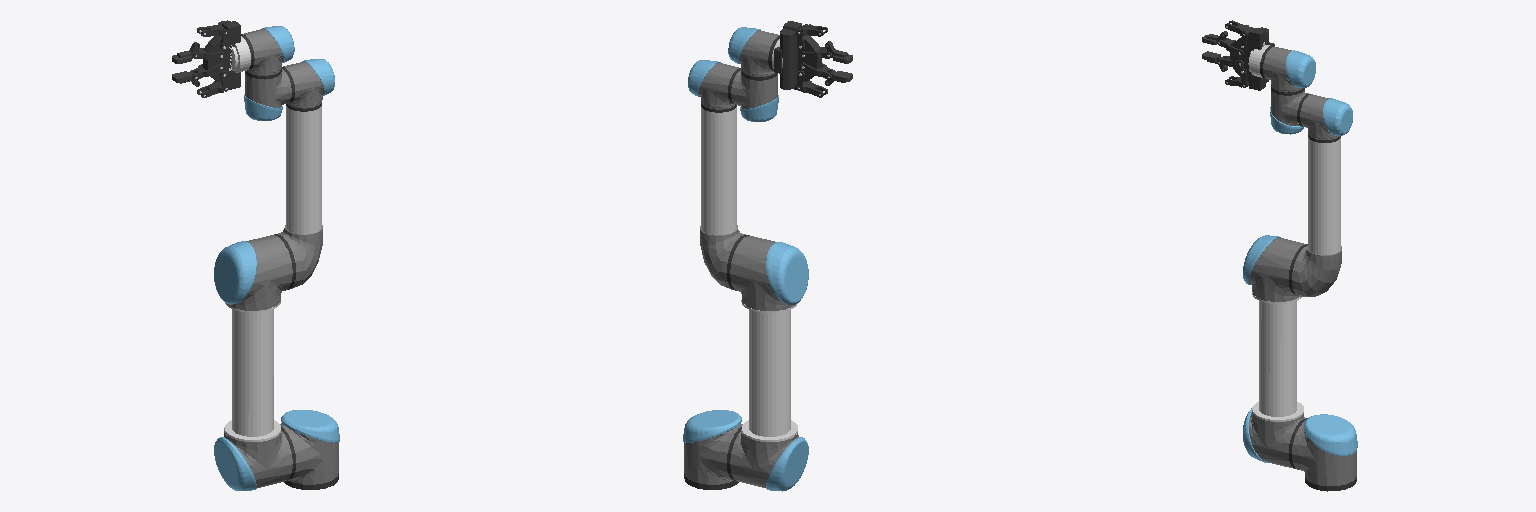
--- Facts derived from the render (not from the file) ---
The picture shows the robot from 3 angles, left to right: view 1: azimuth 30°, elevation 25°; view 2: azimuth 150°, elevation 25°; view 3: azimuth 330°, elevation 25°; orthographic projection.
Robot: UR5_Stand — 16 links, 15 joints (9 revolute, 6 continuous); root link robot_base; default pose: every joint at zero.
Links seen in each view (by area): view 1: link_2_respondable_respondable_respondable_respondable_respondab, link_3_respondable_respondable_respondable_respondable_respondab, link_respondable_respondable_respondable_respondable_respondable, link_5_respondable_respondable_respondable_respondable_respondab, link_4_respondable_respondable_respondable_respondable_respondab, robotiq_base_respondable_respondable_respondable_respondable_res, link_6_respondable_respondable_respondable_respondable_respondab; view 2: link_2_respondable_respondable_respondable_respondable_respondab, link_3_respondable_respondable_respondable_respondable_respondab, link_respondable_respondable_respondable_respondable_respondable, link_5_respondable_respondable_respondable_respondable_respondab, link_4_respondable_respondable_respondable_respondable_respondab, robotiq_base_respondable_respondable_respondable_respondable_res; view 3: link_2_respondable_respondable_respondable_respondable_respondab, link_3_respondable_respondable_respondable_respondable_respondab, link_respondable_respondable_respondable_respondable_respondable, link_5_respondable_respondable_respondable_respondable_respondab, link_4_respondable_respondable_respondable_respondable_respondab, robotiq_base_respondable_respondable_respondable_respondable_res.
Boxes of the visible links, x1,y1,x2,y2 form: link_2_respondable_respondable_respondable_respondable_respondab: [214, 234, 295, 490]; link_3_respondable_respondable_respondable_respondable_respondab: [278, 59, 334, 289]; link_respondable_respondable_respondable_respondable_respondable: [280, 410, 339, 484]; link_5_respondable_respondable_respondable_respondable_respondab: [241, 26, 294, 79]; link_4_respondable_respondable_respondable_respondable_respondab: [244, 67, 294, 120]; robotiq_base_respondable_respondable_respondable_respondable_res: [203, 20, 240, 89]; link_6_respondable_respondable_respondable_respondable_respondab: [232, 36, 250, 72]; link_2_respondable_respondable_respondable_respondable_respondab: [727, 235, 808, 491]; link_3_respondable_respondable_respondable_respondable_respondab: [688, 60, 745, 289]; link_respondable_respondable_respondable_respondable_respondable: [683, 410, 742, 484]; link_5_respondable_respondable_respondable_respondable_respondab: [728, 27, 779, 80]; link_4_respondable_respondable_respondable_respondable_respondab: [728, 67, 778, 121]; robotiq_base_respondable_respondable_respondable_respondable_res: [774, 21, 821, 89]; link_2_respondable_respondable_respondable_respondable_respondab: [1243, 235, 1307, 468]; link_3_respondable_respondable_respondable_respondable_respondab: [1292, 94, 1352, 296]; link_respondable_respondable_respondable_respondable_respondable: [1289, 414, 1357, 485]; link_5_respondable_respondable_respondable_respondable_respondab: [1260, 46, 1315, 95]; link_4_respondable_respondable_respondable_respondable_respondab: [1270, 90, 1310, 134]; robotiq_base_respondable_respondable_respondable_respondable_res: [1230, 27, 1274, 90].
Bounding box of the posed robot: 0.3812 × 0.12 × 1.06 m (x, y, z).
Meshes: 41 distinct files referenced, 41 mesh visuals loaded (41 Collada DAE).

URDF robot description (UR5_Stand):
<?xml version="1.0"?>
<robot name="UR5_Stand">
    <link name="robot_base">
        <collision name="UR5_Stand">
            <origin xyz="-0.000000 0.000000 -0.000000" rpy="3.141592 3.141593 -2.552481" />
            <geometry>
                <cylinder length="0.012300089001656" radius="0.056886240839958" />
            </geometry>
        </collision>
        <collision name="UR5_Stand">
            <origin xyz="0.000000 -0.000000 -0.014650" rpy="-3.141592 3.141593 1.747927" />
            <geometry>
                <cylinder length="0.017000352963805" radius="0.072642646729946" />
            </geometry>
        </collision>
        <visual name="robot_base_visual">
            <origin xyz="-0.000000 0.000000 -0.008500" rpy="3.141592 3.141593 3.141592" />
            <geometry>
                <mesh filename="models/urdf/ur5_static_industrial_16505/ur5_static_industrial_16505_robot_base_visual_vis_1.dae" />
            </geometry>
            <material name="robot_base_visual_material">
                <color rgba="0.282353 0.282353 0.282353 1.0" />
            </material>
        </visual>
    </link>
    <joint name="joint" type="revolute">
        <axis xyz="0 0 1" />
        <limit upper="6.2831854820251" lower="-6.2831854820251" effort="200.0" velocity="1.5707963705063" />
        <parent link="robot_base" />
        <child link="link_respondable_respondable_respondable_respondable_respondable_respondable_respondable" />
        <origin xyz="-0.000000 -0.000000 0.000000" rpy="3.141592 3.141593 3.141592" />
    </joint>
    <link name="link_respondable_respondable_respondable_respondable_respondable_respondable_respondable">
        <inertial>
            <origin rpy="3.141592 3.141593 3.141592" xyz="-0.012312 0.000048 0.066405" />
            <inertia ixx="0.095492165355254" izz="0.09818059467752" ixz="0.0024490834762624" ixy="8.9516803607533e-05" iyz="-7.9251186174956e-05" iyy="0.10672965841326" />
            <mass value="2.5" />
        </inertial>
        <collision name="link_respondable_respondable_respondable_respondable_respondable_respondable_respondable">
            <origin xyz="-0.007178 0.000095 0.070381" rpy="3.141592 3.141593 3.141592" />
            <geometry>
                <mesh filename="models/urdf/ur5_static_industrial_16505/ur5_static_industrial_16505_link_respondable_respondable_respondable_respondable_respondable_respondable_respondable_coll_1.dae" />
            </geometry>
        </collision>
        <collision name="link_respondable_respondable_respondable_respondable_respondable_respondable_respondable">
            <origin xyz="-0.007178 0.000095 0.070381" rpy="3.141592 3.141593 3.141592" />
            <geometry>
                <mesh filename="models/urdf/ur5_static_industrial_16505/ur5_static_industrial_16505_link_respondable_respondable_respondable_respondable_respondable_respondable_respondable_coll_2.dae" />
            </geometry>
        </collision>
        <collision name="link_respondable_respondable_respondable_respondable_respondable_respondable_respondable">
            <origin xyz="-0.007178 0.000095 0.070381" rpy="3.141592 3.141593 3.141592" />
            <geometry>
                <mesh filename="models/urdf/ur5_static_industrial_16505/ur5_static_industrial_16505_link_respondable_respondable_respondable_respondable_respondable_respondable_respondable_coll_3.dae" />
            </geometry>
        </collision>
        <visual name="link_respondable_respondable_respondable_respondable_respondable_respondable_visual">
            <origin xyz="-0.007150 0.000000 0.070335" rpy="3.141592 3.141593 3.141592" />
            <geometry>
                <mesh filename="models/urdf/ur5_static_industrial_16505/ur5_static_industrial_16505_link_respondable_respondable_respondable_respondable_respondable_respondable_visual_vis_1.dae" />
            </geometry>
            <material name="link_respondable_respondable_respondable_respondable_respondable_respondable_visual_material">
                <color rgba="0.282353 0.282353 0.282353 1.0" />
            </material>
        </visual>
        <visual name="link_respondable_respondable_respondable_respondable_respondable_respondable_visual">
            <origin xyz="-0.007150 0.000000 0.070335" rpy="3.141592 3.141593 3.141592" />
            <geometry>
                <mesh filename="models/urdf/ur5_static_industrial_16505/ur5_static_industrial_16505_link_respondable_respondable_respondable_respondable_respondable_respondable_visual_vis_2.dae" />
            </geometry>
            <material name="link_respondable_respondable_respondable_respondable_respondable_respondable_visual_material">
                <color rgba="0.535294 0.535294 0.535294 1.0" />
            </material>
        </visual>
        <visual name="link_respondable_respondable_respondable_respondable_respondable_respondable_visual">
            <origin xyz="-0.007150 0.000000 0.070335" rpy="3.141592 3.141593 3.141592" />
            <geometry>
                <mesh filename="models/urdf/ur5_static_industrial_16505/ur5_static_industrial_16505_link_respondable_respondable_respondable_respondable_respondable_respondable_visual_vis_3.dae" />
            </geometry>
            <material name="link_respondable_respondable_respondable_respondable_respondable_respondable_visual_material">
                <color rgba="0.508235 0.761224 0.903529 1.0" />
            </material>
        </visual>
    </link>
    <joint name="joint_2" type="revolute">
        <axis xyz="0 0 1" />
        <limit upper="6.2831854820251" lower="-6.2831854820251" effort="200.0" velocity="1.5707963705063" />
        <parent link="link_respondable_respondable_respondable_respondable_respondable_respondable_respondable" />
        <child link="link_2_respondable_respondable_respondable_respondable_respondable_respondable_respondable" />
        <origin xyz="-0.070300 0.000000 0.066050" rpy="0.000001 -1.570796 0.000000" />
    </joint>
    <link name="link_2_respondable_respondable_respondable_respondable_respondable_respondable_respondable">
        <inertial>
            <origin rpy="-0.000000 1.570796 0.000000" xyz="0.215595 -0.000035 0.063573" />
            <inertia ixx="0.62573305153059" izz="0.067345368316432" ixz="-0.0052638063542259" ixy="9.2431180680848e-06" iyz="-0.00017721757850982" iyy="0.63325135224174" />
            <mass value="5.6999998092651" />
        </inertial>
        <collision name="link_2_respondable_respondable_respondable_respondable_respondable_respondable_respondable">
            <origin xyz="0.212550 -0.000115 0.064235" rpy="-0.000000 1.570796 0.000000" />
            <geometry>
                <mesh filename="models/urdf/ur5_static_industrial_16505/ur5_static_industrial_16505_link_2_respondable_respondable_respondable_respondable_respondable_respondable_respondable_coll_1.dae" />
            </geometry>
        </collision>
        <collision name="link_2_respondable_respondable_respondable_respondable_respondable_respondable_respondable">
            <origin xyz="0.212550 -0.000115 0.064235" rpy="-0.000000 1.570796 0.000000" />
            <geometry>
                <mesh filename="models/urdf/ur5_static_industrial_16505/ur5_static_industrial_16505_link_2_respondable_respondable_respondable_respondable_respondable_respondable_respondable_coll_2.dae" />
            </geometry>
        </collision>
        <collision name="link_2_respondable_respondable_respondable_respondable_respondable_respondable_respondable">
            <origin xyz="0.212550 -0.000115 0.064235" rpy="-0.000000 1.570796 0.000000" />
            <geometry>
                <mesh filename="models/urdf/ur5_static_industrial_16505/ur5_static_industrial_16505_link_2_respondable_respondable_respondable_respondable_respondable_respondable_respondable_coll_3.dae" />
            </geometry>
        </collision>
        <collision name="link_2_respondable_respondable_respondable_respondable_respondable_respondable_respondable">
            <origin xyz="0.212550 -0.000115 0.064235" rpy="-0.000000 1.570796 0.000000" />
            <geometry>
                <mesh filename="models/urdf/ur5_static_industrial_16505/ur5_static_industrial_16505_link_2_respondable_respondable_respondable_respondable_respondable_respondable_respondable_coll_4.dae" />
            </geometry>
        </collision>
        <collision name="link_2_respondable_respondable_respondable_respondable_respondable_respondable_respondable">
            <origin xyz="0.212550 -0.000115 0.064235" rpy="-0.000000 1.570796 0.000000" />
            <geometry>
                <mesh filename="models/urdf/ur5_static_industrial_16505/ur5_static_industrial_16505_link_2_respondable_respondable_respondable_respondable_respondable_respondable_respondable_coll_5.dae" />
            </geometry>
        </collision>
        <collision name="link_2_respondable_respondable_respondable_respondable_respondable_respondable_respondable">
            <origin xyz="0.212550 -0.000115 0.064235" rpy="-0.000000 1.570796 0.000000" />
            <geometry>
                <mesh filename="models/urdf/ur5_static_industrial_16505/ur5_static_industrial_16505_link_2_respondable_respondable_respondable_respondable_respondable_respondable_respondable_coll_6.dae" />
            </geometry>
        </collision>
        <collision name="link_2_respondable_respondable_respondable_respondable_respondable_respondable_respondable">
            <origin xyz="0.212550 -0.000115 0.064235" rpy="-0.000000 1.570796 0.000000" />
            <geometry>
                <mesh filename="models/urdf/ur5_static_industrial_16505/ur5_static_industrial_16505_link_2_respondable_respondable_respondable_respondable_respondable_respondable_respondable_coll_7.dae" />
            </geometry>
        </collision>
        <visual name="link_2_respondable_respondable_respondable_respondable_respondable_respondable_visual">
            <origin xyz="0.212550 -0.000000 0.064217" rpy="-0.000000 1.570796 0.000000" />
            <geometry>
                <mesh filename="models/urdf/ur5_static_industrial_16505/ur5_static_industrial_16505_link_2_respondable_respondable_respondable_respondable_respondable_respondable_visual_vis_1.dae" />
            </geometry>
            <material name="link_2_respondable_respondable_respondable_respondable_respondable_respondable_visual_material">
                <color rgba="0.870588 0.870588 0.870588 1.0" />
            </material>
        </visual>
        <visual name="link_2_respondable_respondable_respondable_respondable_respondable_respondable_visual">
            <origin xyz="0.212550 -0.000000 0.064217" rpy="-0.000000 1.570796 0.000000" />
            <geometry>
                <mesh filename="models/urdf/ur5_static_industrial_16505/ur5_static_industrial_16505_link_2_respondable_respondable_respondable_respondable_respondable_respondable_visual_vis_2.dae" />
            </geometry>
            <material name="link_2_respondable_respondable_respondable_respondable_respondable_respondable_visual_material">
                <color rgba="0.508235 0.761224 0.903529 1.0" />
            </material>
        </visual>
        <visual name="link_2_respondable_respondable_respondable_respondable_respondable_respondable_visual">
            <origin xyz="0.212550 -0.000000 0.064217" rpy="-0.000000 1.570796 0.000000" />
            <geometry>
                <mesh filename="models/urdf/ur5_static_industrial_16505/ur5_static_industrial_16505_link_2_respondable_respondable_respondable_respondable_respondable_respondable_visual_vis_3.dae" />
            </geometry>
            <material name="link_2_respondable_respondable_respondable_respondable_respondable_respondable_visual_material">
                <color rgba="0.535294 0.535294 0.535294 1.0" />
            </material>
        </visual>
        <visual name="link_2_respondable_respondable_respondable_respondable_respondable_respondable_visual">
            <origin xyz="0.212550 -0.000000 0.064217" rpy="-0.000000 1.570796 0.000000" />
            <geometry>
                <mesh filename="models/urdf/ur5_static_industrial_16505/ur5_static_industrial_16505_link_2_respondable_respondable_respondable_respondable_respondable_respondable_visual_vis_4.dae" />
            </geometry>
            <material name="link_2_respondable_respondable_respondable_respondable_respondable_respondable_visual_material">
                <color rgba="0.282353 0.282353 0.282353 1.0" />
            </material>
        </visual>
        <visual name="link_2_respondable_respondable_respondable_respondable_respondable_respondable_visual">
            <origin xyz="0.212550 -0.000000 0.064217" rpy="-0.000000 1.570796 0.000000" />
            <geometry>
                <mesh filename="models/urdf/ur5_static_industrial_16505/ur5_static_industrial_16505_link_2_respondable_respondable_respondable_respondable_respondable_respondable_visual_vis_5.dae" />
            </geometry>
            <material name="link_2_respondable_respondable_respondable_respondable_respondable_respondable_visual_material">
                <color rgba="0.535294 0.535294 0.535294 1.0" />
            </material>
        </visual>
        <visual name="link_2_respondable_respondable_respondable_respondable_respondable_respondable_visual">
            <origin xyz="0.212550 -0.000000 0.064217" rpy="-0.000000 1.570796 0.000000" />
            <geometry>
                <mesh filename="models/urdf/ur5_static_industrial_16505/ur5_static_industrial_16505_link_2_respondable_respondable_respondable_respondable_respondable_respondable_visual_vis_6.dae" />
            </geometry>
            <material name="link_2_respondable_respondable_respondable_respondable_respondable_respondable_visual_material">
                <color rgba="0.508235 0.761224 0.903529 1.0" />
            </material>
        </visual>
    </link>
    <joint name="joint_3" type="revolute">
        <axis xyz="0 0 1" />
        <limit upper="6.2831854820251" lower="-6.2831854820251" effort="200.0" velocity="1.5707963705063" />
        <parent link="link_2_respondable_respondable_respondable_respondable_respondable_respondable_respondable" />
        <child link="link_3_respondable_respondable_respondable_respondable_respondable_respondable_respondable" />
        <origin xyz="0.425100 0.000000 0.000000" rpy="3.141593 3.141592 3.141592" />
    </joint>
    <link name="link_3_respondable_respondable_respondable_respondable_respondable_respondable_respondable">
        <inertial>
            <origin rpy="0.000000 1.570796 0.000000" xyz="0.192773 0.000015 -0.050153" />
            <inertia ixx="0.4592564485459" izz="0.035597955537677" ixz="-0.027670910392482" ixy="2.2187787147887e-06" iyz="-2.1029099787318e-05" iyy="0.46060709235019" />
            <mass value="3.9000000953674" />
        </inertial>
        <collision name="link_3_respondable_respondable_respondable_respondable_respondable_respondable_respondable">
            <origin xyz="0.186773 0.000016 -0.057847" rpy="0.000000 1.570796 0.000000" />
            <geometry>
                <mesh filename="models/urdf/ur5_static_industrial_16505/ur5_static_industrial_16505_link_3_respondable_respondable_respondable_respondable_respondable_respondable_respondable_coll_1.dae" />
            </geometry>
        </collision>
        <collision name="link_3_respondable_respondable_respondable_respondable_respondable_respondable_respondable">
            <origin xyz="0.186773 0.000016 -0.057847" rpy="0.000000 1.570796 0.000000" />
            <geometry>
                <mesh filename="models/urdf/ur5_static_industrial_16505/ur5_static_industrial_16505_link_3_respondable_respondable_respondable_respondable_respondable_respondable_respondable_coll_2.dae" />
            </geometry>
        </collision>
        <collision name="link_3_respondable_respondable_respondable_respondable_respondable_respondable_respondable">
            <origin xyz="0.186773 0.000016 -0.057847" rpy="0.000000 1.570796 0.000000" />
            <geometry>
                <mesh filename="models/urdf/ur5_static_industrial_16505/ur5_static_industrial_16505_link_3_respondable_respondable_respondable_respondable_respondable_respondable_respondable_coll_3.dae" />
            </geometry>
        </collision>
        <collision name="link_3_respondable_respondable_respondable_respondable_respondable_respondable_respondable">
            <origin xyz="0.186773 0.000016 -0.057847" rpy="0.000000 1.570796 0.000000" />
            <geometry>
                <mesh filename="models/urdf/ur5_static_industrial_16505/ur5_static_industrial_16505_link_3_respondable_respondable_respondable_respondable_respondable_respondable_respondable_coll_4.dae" />
            </geometry>
        </collision>
        <collision name="link_3_respondable_respondable_respondable_respondable_respondable_respondable_respondable">
            <origin xyz="0.186773 0.000016 -0.057847" rpy="0.000000 1.570796 0.000000" />
            <geometry>
                <mesh filename="models/urdf/ur5_static_industrial_16505/ur5_static_industrial_16505_link_3_respondable_respondable_respondable_respondable_respondable_respondable_respondable_coll_5.dae" />
            </geometry>
        </collision>
        <visual name="link_3_respondable_respondable_respondable_respondable_respondable_respondable_visual">
            <origin xyz="0.186650 0.000000 -0.057850" rpy="0.000000 1.570796 0.000000" />
            <geometry>
                <mesh filename="models/urdf/ur5_static_industrial_16505/ur5_static_industrial_16505_link_3_respondable_respondable_respondable_respondable_respondable_respondable_visual_vis_1.dae" />
            </geometry>
            <material name="link_3_respondable_respondable_respondable_respondable_respondable_respondable_visual_material">
                <color rgba="0.870588 0.870588 0.870588 1.0" />
            </material>
        </visual>
        <visual name="link_3_respondable_respondable_respondable_respondable_respondable_respondable_visual">
            <origin xyz="0.186650 0.000000 -0.057850" rpy="0.000000 1.570796 0.000000" />
            <geometry>
                <mesh filename="models/urdf/ur5_static_industrial_16505/ur5_static_industrial_16505_link_3_respondable_respondable_respondable_respondable_respondable_respondable_visual_vis_2.dae" />
            </geometry>
            <material name="link_3_respondable_respondable_respondable_respondable_respondable_respondable_visual_material">
                <color rgba="0.535294 0.535294 0.535294 1.0" />
            </material>
        </visual>
        <visual name="link_3_respondable_respondable_respondable_respondable_respondable_respondable_visual">
            <origin xyz="0.186650 0.000000 -0.057850" rpy="0.000000 1.570796 0.000000" />
            <geometry>
                <mesh filename="models/urdf/ur5_static_industrial_16505/ur5_static_industrial_16505_link_3_respondable_respondable_respondable_respondable_respondable_respondable_visual_vis_3.dae" />
            </geometry>
            <material name="link_3_respondable_respondable_respondable_respondable_respondable_respondable_visual_material">
                <color rgba="0.508235 0.761224 0.903529 1.0" />
            </material>
        </visual>
        <visual name="link_3_respondable_respondable_respondable_respondable_respondable_respondable_visual">
            <origin xyz="0.186650 0.000000 -0.057850" rpy="0.000000 1.570796 0.000000" />
            <geometry>
                <mesh filename="models/urdf/ur5_static_industrial_16505/ur5_static_industrial_16505_link_3_respondable_respondable_respondable_respondable_respondable_respondable_visual_vis_4.dae" />
            </geometry>
            <material name="link_3_respondable_respondable_respondable_respondable_respondable_respondable_visual_material">
                <color rgba="0.282353 0.282353 0.282353 1.0" />
            </material>
        </visual>
        <visual name="link_3_respondable_respondable_respondable_respondable_respondable_respondable_visual">
            <origin xyz="0.186650 0.000000 -0.057850" rpy="0.000000 1.570796 0.000000" />
            <geometry>
                <mesh filename="models/urdf/ur5_static_industrial_16505/ur5_static_industrial_16505_link_3_respondable_respondable_respondable_respondable_respondable_respondable_visual_vis_5.dae" />
            </geometry>
            <material name="link_3_respondable_respondable_respondable_respondable_respondable_respondable_visual_material">
                <color rgba="0.535294 0.535294 0.535294 1.0" />
            </material>
        </visual>
    </link>
    <joint name="joint_4" type="revolute">
        <axis xyz="0 0 1" />
        <limit upper="6.2831854820251" lower="-6.2831854820251" effort="200.0" velocity="1.5707963705063" />
        <parent link="link_3_respondable_respondable_respondable_respondable_respondable_respondable_respondable" />
        <child link="link_4_respondable_respondable_respondable_respondable_respondable_respondable_respondable" />
        <origin xyz="0.392150 -0.000000 0.000000" rpy="3.141593 3.141592 3.141592" />
    </joint>
    <link name="link_4_respondable_respondable_respondable_respondable_respondable_respondable_respondable">
        <inertial>
            <origin rpy="0.000000 1.570796 0.000000" xyz="-0.005517 -0.000003 0.030943" />
            <inertia ixx="0.10017005794782" izz="0.087106483494915" ixz="-0.0020900872562349" ixy="3.1976010243315e-06" iyz="-1.791527123899e-05" iyy="0.11466452218562" />
            <mass value="2.5" />
        </inertial>
        <collision name="link_4_respondable_respondable_respondable_respondable_respondable_respondable_respondable">
            <origin xyz="-0.007501 -0.000045 0.032830" rpy="0.000000 1.570796 0.000000" />
            <geometry>
                <mesh filename="models/urdf/ur5_static_industrial_16505/ur5_static_industrial_16505_link_4_respondable_respondable_respondable_respondable_respondable_respondable_respondable_coll_1.dae" />
            </geometry>
        </collision>
        <collision name="link_4_respondable_respondable_respondable_respondable_respondable_respondable_respondable">
            <origin xyz="-0.007501 -0.000045 0.032830" rpy="0.000000 1.570796 0.000000" />
            <geometry>
                <mesh filename="models/urdf/ur5_static_industrial_16505/ur5_static_industrial_16505_link_4_respondable_respondable_respondable_respondable_respondable_respondable_respondable_coll_2.dae" />
            </geometry>
        </collision>
        <collision name="link_4_respondable_respondable_respondable_respondable_respondable_respondable_respondable">
            <origin xyz="-0.007501 -0.000045 0.032830" rpy="0.000000 1.570796 0.000000" />
            <geometry>
                <mesh filename="models/urdf/ur5_static_industrial_16505/ur5_static_industrial_16505_link_4_respondable_respondable_respondable_respondable_respondable_respondable_respondable_coll_3.dae" />
            </geometry>
        </collision>
        <visual name="link_4_respondable_respondable_respondable_respondable_respondable_respondable_visual">
            <origin xyz="-0.007500 0.000000 0.032800" rpy="0.000000 1.570796 0.000000" />
            <geometry>
                <mesh filename="models/urdf/ur5_static_industrial_16505/ur5_static_industrial_16505_link_4_respondable_respondable_respondable_respondable_respondable_respondable_visual_vis_1.dae" />
            </geometry>
            <material name="link_4_respondable_respondable_respondable_respondable_respondable_respondable_visual_material">
                <color rgba="0.282353 0.282353 0.282353 1.0" />
            </material>
        </visual>
        <visual name="link_4_respondable_respondable_respondable_respondable_respondable_respondable_visual">
            <origin xyz="-0.007500 0.000000 0.032800" rpy="0.000000 1.570796 0.000000" />
            <geometry>
                <mesh filename="models/urdf/ur5_static_industrial_16505/ur5_static_industrial_16505_link_4_respondable_respondable_respondable_respondable_respondable_respondable_visual_vis_2.dae" />
            </geometry>
            <material name="link_4_respondable_respondable_respondable_respondable_respondable_respondable_visual_material">
                <color rgba="0.535294 0.535294 0.535294 1.0" />
            </material>
        </visual>
        <visual name="link_4_respondable_respondable_respondable_respondable_respondable_respondable_visual">
            <origin xyz="-0.007500 0.000000 0.032800" rpy="0.000000 1.570796 0.000000" />
            <geometry>
                <mesh filename="models/urdf/ur5_static_industrial_16505/ur5_static_industrial_16505_link_4_respondable_respondable_respondable_respondable_respondable_respondable_visual_vis_3.dae" />
            </geometry>
            <material name="link_4_respondable_respondable_respondable_respondable_respondable_respondable_visual_material">
                <color rgba="0.508235 0.761224 0.903529 1.0" />
            </material>
        </visual>
    </link>
    <joint name="joint_5" type="revolute">
        <axis xyz="0 0 1" />
        <limit upper="6.2831854820251" lower="-6.2831854820251" effort="200.0" velocity="1.5707963705063" />
        <parent link="link_4_respondable_respondable_respondable_respondable_respondable_respondable_respondable" />
        <child link="link_5_respondable_respondable_respondable_respondable_respondable_respondable_respondable" />
        <origin xyz="0.045575 -0.000000 0.039700" rpy="2.608967 1.570799 2.608967" />
    </joint>
    <link name="link_5_respondable_respondable_respondable_respondable_respondable_respondable_respondable">
        <inertial>
            <origin rpy="3.141592 3.141593 3.141592" xyz="0.002100 0.000002 0.040669" />
            <inertia ixx="0.08179215416809" izz="0.1041509279002" ixz="-0.00073245390311674" ixy="-1.5531769026879e-05" iyz="3.8714712477568e-06" iyy="0.11739579576874" />
            <mass value="2.5" />
        </inertial>
        <collision name="link_5_respondable_respondable_respondable_respondable_respondable_respondable_respondable">
            <origin xyz="0.003601 0.000045 0.042305" rpy="3.141592 3.141593 3.141592" />
            <geometry>
                <mesh filename="models/urdf/ur5_static_industrial_16505/ur5_static_industrial_16505_link_5_respondable_respondable_respondable_respondable_respondable_respondable_respondable_coll_1.dae" />
            </geometry>
        </collision>
        <collision name="link_5_respondable_respondable_respondable_respondable_respondable_respondable_respondable">
            <origin xyz="0.003601 0.000045 0.042305" rpy="3.141592 3.141593 3.141592" />
            <geometry>
                <mesh filename="models/urdf/ur5_static_industrial_16505/ur5_static_industrial_16505_link_5_respondable_respondable_respondable_respondable_respondable_respondable_respondable_coll_2.dae" />
            </geometry>
        </collision>
        <collision name="link_5_respondable_respondable_respondable_respondable_respondable_respondable_respondable">
            <origin xyz="0.003601 0.000045 0.042305" rpy="3.141592 3.141593 3.141592" />
            <geometry>
                <mesh filename="models/urdf/ur5_static_industrial_16505/ur5_static_industrial_16505_link_5_respondable_respondable_respondable_respondable_respondable_respondable_respondable_coll_3.dae" />
            </geometry>
        </collision>
        <visual name="link_5_respondable_respondable_respondable_respondable_respondable_respondable_visual">
            <origin xyz="0.003600 0.000000 0.042275" rpy="3.141592 3.141593 3.141592" />
            <geometry>
                <mesh filename="models/urdf/ur5_static_industrial_16505/ur5_static_industrial_16505_link_5_respondable_respondable_respondable_respondable_respondable_respondable_visual_vis_1.dae" />
            </geometry>
            <material name="link_5_respondable_respondable_respondable_respondable_respondable_respondable_visual_material">
                <color rgba="0.535294 0.535294 0.535294 1.0" />
            </material>
        </visual>
        <visual name="link_5_respondable_respondable_respondable_respondable_respondable_respondable_visual">
            <origin xyz="0.003600 0.000000 0.042275" rpy="3.141592 3.141593 3.141592" />
            <geometry>
                <mesh filename="models/urdf/ur5_static_industrial_16505/ur5_static_industrial_16505_link_5_respondable_respondable_respondable_respondable_respondable_respondable_visual_vis_2.dae" />
            </geometry>
            <material name="link_5_respondable_respondable_respondable_respondable_respondable_respondable_visual_material">
                <color rgba="0.508235 0.761224 0.903529 1.0" />
            </material>
        </visual>
        <visual name="link_5_respondable_respondable_respondable_respondable_respondable_respondable_visual">
            <origin xyz="0.003600 0.000000 0.042275" rpy="3.141592 3.141593 3.141592" />
            <geometry>
                <mesh filename="models/urdf/ur5_static_industrial_16505/ur5_static_industrial_16505_link_5_respondable_respondable_respondable_respondable_respondable_respondable_visual_vis_3.dae" />
            </geometry>
            <material name="link_5_respondable_respondable_respondable_respondable_respondable_respondable_visual_material">
                <color rgba="0.282353 0.282353 0.282353 1.0" />
            </material>
        </visual>
        <visual name="link_5_respondable_respondable_respondable_respondable_respondable_respondable_visual">
            <origin xyz="0.003600 0.000000 0.042275" rpy="3.141592 3.141593 3.141592" />
            <geometry>
                <mesh filename="models/urdf/ur5_static_industrial_16505/ur5_static_industrial_16505_link_5_respondable_respondable_respondable_respondable_respondable_respondable_visual_vis_4.dae" />
            </geometry>
            <material name="link_5_respondable_respondable_respondable_respondable_respondable_respondable_visual_material">
                <color rgba="0.282353 0.282353 0.282353 1.0" />
            </material>
        </visual>
    </link>
    <joint name="joint_6" type="revolute">
        <axis xyz="0 0 1" />
        <limit upper="6.2831854820251" lower="-6.2831854820251" effort="200.0" velocity="1.5707963705063" />
        <parent link="link_5_respondable_respondable_respondable_respondable_respondable_respondable_respondable" />
        <child link="link_6_respondable_respondable_respondable_respondable_respondable_respondable_respondable" />
        <origin xyz="0.014425 -0.000000 0.049175" rpy="-3.141592 4.712385 -3.141592" />
    </joint>
    <link name="link_6_respondable_respondable_respondable_respondable_respondable_respondable_respondable">
        <inertial>
            <origin rpy="-3.141593 3.141593 3.141592" xyz="0.000000 -0.000000 0.076675" />
            <inertia ixx="0.0058406852103875" izz="0.010054638677955" ixz="-2.7556503513713e-25" ixy="-6.3274389897354e-48" iyz="2.7556503506348e-25" iyy="0.0058406852103875" />
            <mass value="0.69999998807907" />
        </inertial>
        <collision name="link_6_respondable_respondable_respondable_respondable_respondable_respondable_respondable">
            <origin xyz="0.000000 -0.000000 0.076675" rpy="-3.141593 3.141593 3.141592" />
            <geometry>
                <cylinder length="0.025500684976578" radius="0.036602452397346" />
            </geometry>
        </collision>
        <visual name="link_6_respondable_respondable_respondable_respondable_respondable_respondable_visual">
            <origin xyz="0.003860 -0.000000 0.080425" rpy="0.000001 1.570796 0.000000" />
            <geometry>
                <mesh filename="models/urdf/ur5_static_industrial_16505/ur5_static_industrial_16505_link_6_respondable_respondable_respondable_respondable_respondable_respondable_visual_vis_1.dae" />
            </geometry>
            <material name="link_6_respondable_respondable_respondable_respondable_respondable_respondable_visual_material">
                <color rgba="0.870588 0.870588 0.870588 1.0" />
            </material>
        </visual>
    </link>
    <joint name="joint_6_2" type="revolute">
        <axis xyz="0 0 1" />
        <limit upper="6.2831854820251" lower="-6.2831854820251" effort="200.0" velocity="1.5707963705063" />
        <parent link="link_6_respondable_respondable_respondable_respondable_respondable_respondable_respondable" />
        <child link="robotiq_base_respondable_respondable_respondable_respondable_respondable_respondable_respondable" />
        <origin xyz="0.014425 0.000000 0.049175" rpy="1.543761 4.712381 -1.543761" />
    </joint>
    <link name="robotiq_base_respondable_respondable_respondable_respondable_respondable_respondable_respondable">
        <inertial>
            <origin rpy="1.570796 3.141592 -3.141591" xyz="0.043899 0.008350 0.012000" />
            <inertia ixx="0.00070222511049253" izz="0.00072521695233332" ixz="3.003181387601e-05" ixy="-3.0779821975711e-10" iyz="-2.9619775557726e-11" iyy="0.00024588701243668" />
            <mass value="0.5" />
        </inertial>
        <collision name="robotiq_base_respondable_respondable_respondable_respondable_respondable_respondable_respondable">
            <origin xyz="0.030000 0.010000 0.012000" rpy="1.570796 3.141592 -3.141591" />
            <geometry>
                <box size="0.017463 0.050800 0.057938" />
            </geometry>
        </collision>
        <collision name="robotiq_base_respondable_respondable_respondable_respondable_respondable_respondable_respondable">
            <origin xyz="0.083032 -0.004681 0.012000" rpy="3.141592 3.141592 -3.141591" />
            <geometry>
                <box size="0.040000 0.020600 0.040000" />
            </geometry>
        </collision>
        <collision name="robotiq_base_respondable_respondable_respondable_respondable_respondable_respondable_respondable">
            <origin xyz="0.041272 0.009924 0.012000" rpy="-0.000001 3.141592 -3.141591" />
            <geometry>
                <box size="0.030480 0.051435 0.139700" />
            </geometry>
        </collision>
        <visual name="robotiq_base_respondable_respondable_respondable_respondable_respondable_respondable_visual">
            <origin xyz="0.062151 0.010000 0.012000" rpy="-0.000012 1.570796 0.000000" />
            <geometry>
                <mesh filename="models/urdf/ur5_static_industrial_16505/ur5_static_industrial_16505_robotiq_base_respondable_respondable_respondable_respondable_respondable_respondable_visual_vis_1.dae" />
            </geometry>
            <material name="robotiq_base_respondable_respondable_respondable_respondable_respondable_respondable_visual_material">
                <color rgba="0.282317 0.282389 0.282389 1.0" />
            </material>
        </visual>
        <visual name="robotiq_base_respondable_respondable_respondable_respondable_respondable_respondable_visual">
            <origin xyz="0.062151 0.010000 0.012000" rpy="-0.000012 1.570796 0.000000" />
            <geometry>
                <mesh filename="models/urdf/ur5_static_industrial_16505/ur5_static_industrial_16505_robotiq_base_respondable_respondable_respondable_respondable_respondable_respondable_visual_vis_2.dae" />
            </geometry>
            <material name="robotiq_base_respondable_respondable_respondable_respondable_respondable_respondable_visual_material">
                <color rgba="1.000000 1.000000 1.000000 1.0" />
            </material>
        </visual>
    </link>
    <joint name="Rjoint1" type="revolute">
        <axis xyz="0 0 1" />
        <limit upper="0.78539818525314" lower="0.0" effort="1.0" velocity="0.69813168048859" />
        <parent link="robotiq_base_respondable_respondable_respondable_respondable_respondable_respondable_respondable" />
        <child link="Rfinger_respondable_respondable_respondable_respondable_respondable_respondable_respondable" />
        <origin xyz="0.074600 -0.004681 -0.000738" rpy="-1.365597 1.570798 -2.936391" />
    </joint>
    <link name="Rfinger_respondable_respondable_respondable_respondable_respondable_respondable_respondable">
        <inertial>
            <origin rpy="1.570973 3.138398 -0.197315" xyz="0.005488 0.027095 -0.000010" />
            <inertia ixx="3.4844272621657e-05" izz="7.6569405819033e-06" ixz="2.1450411346945e-20" ixy="2.7315937402649e-21" iyz="2.7457485415991e-20" iyy="2.9984947551464e-05" />
            <mass value="0.10000000149012" />
        </inertial>
        <collision name="Rfinger_respondable_respondable_respondable_respondable_respondable_respondable_respondable">
            <origin xyz="0.005488 0.027095 -0.000010" rpy="1.570973 3.138398 -0.197315" />
            <geometry>
                <box size="0.015803 0.033427 0.071444" />
            </geometry>
        </collision>
        <visual name="Rfinger_respondable_respondable_respondable_respondable_respondable_respondable_visual">
            <origin xyz="0.005488 0.027095 -0.000010" rpy="1.570973 3.138398 -0.197315" />
            <geometry>
                <mesh filename="models/urdf/ur5_static_industrial_16505/ur5_static_industrial_16505_Rfinger_respondable_respondable_respondable_respondable_respondable_respondable_visual_vis_1.dae" />
            </geometry>
            <material name="Rfinger_respondable_respondable_respondable_respondable_respondable_respondable_visual_material">
                <color rgba="0.282317 0.282389 0.282389 1.0" />
            </material>
        </visual>
        <visual name="Rfinger_respondable_respondable_respondable_respondable_respondable_respondable_visual">
            <origin xyz="0.005488 0.027095 -0.000010" rpy="1.570973 3.138398 -0.197315" />
            <geometry>
                <mesh filename="models/urdf/ur5_static_industrial_16505/ur5_static_industrial_16505_Rfinger_respondable_respondable_respondable_respondable_respondable_respondable_visual_vis_2.dae" />
            </geometry>
            <material name="Rfinger_respondable_respondable_respondable_respondable_respondable_respondable_visual_material">
                <color rgba="0.837524 0.970755 1.000000 1.0" />
            </material>
        </visual>
    </link>
    <joint name="Rjoint2" type="continuous">
        <axis xyz="0 0 1" />
        <parent link="Rfinger_respondable_respondable_respondable_respondable_respondable_respondable_respondable" />
        <child link="RfingerTip_respondable_respondable_respondable_respondable_respondable_respondable_respondable" />
        <origin xyz="0.011178 0.055908 -0.000005" rpy="3.141588 3.141599 -2.617992" />
    </joint>
    <link name="RfingerTip_respondable_respondable_respondable_respondable_respondable_respondable_respondable">
        <inertial>
            <origin rpy="1.570808 3.141584 2.617863" xyz="0.011427 0.016336 0.000003" />
            <inertia ixx="3.0898972527854e-05" izz="1.0653877098426e-05" ixz="9.351945982435e-06" ixy="-1.5997928581795e-09" iyz="3.0402031091234e-09" iyy="3.3094096464058e-05" />
            <mass value="0.10000000149012" />
        </inertial>
        <collision name="RfingerTip_respondable_respondable_respondable_respondable_respondable_respondable_respondable">
            <origin xyz="0.011082 0.025433 0.000005" rpy="1.570808 3.141584 2.617863" />
            <geometry>
                <box size="0.009509 0.025404 0.036832" />
            </geometry>
        </collision>
        <collision name="RfingerTip_respondable_respondable_respondable_respondable_respondable_respondable_respondable">
            <origin xyz="0.014106 0.016939 0.000003" rpy="-1.570951 3.141603 -0.523730" />
            <geometry>
                <box size="0.008509 0.014223 0.025144" />
            </geometry>
        </collision>
        <collision name="RfingerTip_respondable_respondable_respondable_respondable_respondable_respondable_respondable">
            <origin xyz="0.009791 -0.010308 -0.000000" rpy="2.668179 1.571060 -1.520739" />
            <geometry>
                <box size="0.011078 0.012672 0.022135" />
            </geometry>
        </collision>
        <visual name="RfingerTip_respondable_respondable_respondable_respondable_respondable_respondable_visual">
            <origin xyz="0.015278 0.010303 0.000004" rpy="1.570939 3.141584 2.617889" />
            <geometry>
                <mesh filename="models/urdf/ur5_static_industrial_16505/ur5_static_industrial_16505_RfingerTip_respondable_respondable_respondable_respondable_respondable_respondable_visual_vis_1.dae" />
            </geometry>
            <material name="RfingerTip_respondable_respondable_respondable_respondable_respondable_respondable_visual_material">
                <color rgba="0.282317 0.282389 0.282389 1.0" />
            </material>
        </visual>
        <visual name="RfingerTip_respondable_respondable_respondable_respondable_respondable_respondable_visual">
            <origin xyz="0.015278 0.010303 0.000004" rpy="1.570939 3.141584 2.617889" />
            <geometry>
                <mesh filename="models/urdf/ur5_static_industrial_16505/ur5_static_industrial_16505_RfingerTip_respondable_respondable_respondable_respondable_respondable_respondable_visual_vis_2.dae" />
            </geometry>
            <material name="RfingerTip_respondable_respondable_respondable_respondable_respondable_respondable_visual_material">
                <color rgba="0.305882 0.305882 0.305882 1.0" />
            </material>
        </visual>
    </link>
    <joint name="RactiveJoint" type="continuous">
        <axis xyz="0 0 1" />
        <parent link="robotiq_base_respondable_respondable_respondable_respondable_respondable_respondable_respondable" />
        <child link="RauxLink1Visible_visual_visual_visual_visual_visual_visual_visual" />
        <origin xyz="0.067942 -0.004681 -0.018601" rpy="-1.365597 1.570798 -2.936391" />
    </joint>
    <link name="RauxLink1Visible_visual_visual_visual_visual_visual_visual_visual">
        <visual name="RauxLink1Visible_visual_visual_visual_visual_visual_visual_visual">
            <origin xyz="0.014963 -0.001623 0.000001" rpy="-1.570931 3.141677 -1.674482" />
            <geometry>
                <mesh filename="models/urdf/ur5_static_industrial_16505/ur5_static_industrial_16505_RauxLink1Visible_visual_visual_visual_visual_visual_visual_visual_vis_1.dae" />
            </geometry>
            <material name="RauxLink1Visible_visual_visual_visual_visual_visual_visual_visual_material">
                <color rgba="0.282317 0.282389 0.282389 1.0" />
            </material>
        </visual>
        <visual name="RauxLink1Visible_visual_visual_visual_visual_visual_visual_visual">
            <origin xyz="0.014963 -0.001623 0.000001" rpy="-1.570931 3.141677 -1.674482" />
            <geometry>
                <mesh filename="models/urdf/ur5_static_industrial_16505/ur5_static_industrial_16505_RauxLink1Visible_visual_visual_visual_visual_visual_visual_visual_vis_2.dae" />
            </geometry>
            <material name="RauxLink1Visible_visual_visual_visual_visual_visual_visual_visual_material">
                <color rgba="0.837524 0.970755 1.000000 1.0" />
            </material>
        </visual>
    </link>
    <joint name="RauxJoint2" type="continuous">
        <axis xyz="0 0 1" />
        <parent link="RauxLink1Visible_visual_visual_visual_visual_visual_visual_visual" />
        <child link="RauxLink2Visible_visual_visual_visual_visual_visual_visual_visual" />
        <origin xyz="0.031465 -0.004244 0.000000" rpy="-3.141592 3.141593 -3.141592" />
    </joint>
    <link name="RauxLink2Visible_visual_visual_visual_visual_visual_visual_visual">
        <visual name="RauxLink2Visible_visual_visual_visual_visual_visual_visual_visual">
            <origin xyz="0.003104 0.023609 0.000000" rpy="-1.570795 3.141585 -0.130688" />
            <geometry>
                <mesh filename="models/urdf/ur5_static_industrial_16505/ur5_static_industrial_16505_RauxLink2Visible_visual_visual_visual_visual_visual_visual_visual_vis_1.dae" />
            </geometry>
            <material name="RauxLink2Visible_visual_visual_visual_visual_visual_visual_visual_material">
                <color rgba="0.282317 0.282389 0.282389 1.0" />
            </material>
        </visual>
        <visual name="RauxLink2Visible_visual_visual_visual_visual_visual_visual_visual">
            <origin xyz="0.003104 0.023609 0.000000" rpy="-1.570795 3.141585 -0.130688" />
            <geometry>
                <mesh filename="models/urdf/ur5_static_industrial_16505/ur5_static_industrial_16505_RauxLink2Visible_visual_visual_visual_visual_visual_visual_visual_vis_2.dae" />
            </geometry>
            <material name="RauxLink2Visible_visual_visual_visual_visual_visual_visual_visual_material">
                <color rgba="0.837524 0.970755 1.000000 1.0" />
            </material>
        </visual>
    </link>
    <joint name="Ljoint1" type="revolute">
        <axis xyz="0 0 1" />
        <limit upper="0.78539818525314" lower="0.0" effort="1.0" velocity="0.69813168048859" />
        <parent link="robotiq_base_respondable_respondable_respondable_respondable_respondable_respondable_respondable" />
        <child link="Lfinger_respondable_respondable_respondable_respondable_respondable_respondable_respondable" />
        <origin xyz="0.074600 -0.004681 0.024736" rpy="-1.570793 -1.570796 0.000000" />
    </joint>
    <link name="Lfinger_respondable_respondable_respondable_respondable_respondable_respondable_respondable">
        <inertial>
            <origin rpy="1.570973 3.138400 -0.197320" xyz="0.005488 0.027096 -0.000000" />
            <inertia ixx="3.4844272621657e-05" izz="7.6569405819033e-06" ixz="1.2270035709225e-20" ixy="6.8469458996205e-21" iyz="3.5157769650411e-20" iyy="2.9984947551464e-05" />
            <mass value="0.10000000149012" />
        </inertial>
        <collision name="Lfinger_respondable_respondable_respondable_respondable_respondable_respondable_respondable">
            <origin xyz="0.005488 0.027096 -0.000000" rpy="1.570973 3.138400 -0.197320" />
            <geometry>
                <box size="0.015803 0.033427 0.071444" />
            </geometry>
        </collision>
        <visual name="Lfinger_respondable_respondable_respondable_respondable_respondable_respondable_visual">
            <origin xyz="0.005488 0.027096 -0.000000" rpy="1.570973 3.138400 -0.197320" />
            <geometry>
                <mesh filename="models/urdf/ur5_static_industrial_16505/ur5_static_industrial_16505_Lfinger_respondable_respondable_respondable_respondable_respondable_respondable_visual_vis_1.dae" />
            </geometry>
            <material name="Lfinger_respondable_respondable_respondable_respondable_respondable_respondable_visual_material">
                <color rgba="0.282317 0.282389 0.282389 1.0" />
            </material>
        </visual>
        <visual name="Lfinger_respondable_respondable_respondable_respondable_respondable_respondable_visual">
            <origin xyz="0.005488 0.027096 -0.000000" rpy="1.570973 3.138400 -0.197320" />
            <geometry>
                <mesh filename="models/urdf/ur5_static_industrial_16505/ur5_static_industrial_16505_Lfinger_respondable_respondable_respondable_respondable_respondable_respondable_visual_vis_2.dae" />
            </geometry>
            <material name="Lfinger_respondable_respondable_respondable_respondable_respondable_respondable_visual_material">
                <color rgba="0.837524 0.970755 1.000000 1.0" />
            </material>
        </visual>
    </link>
    <joint name="Ljoint2" type="continuous">
        <axis xyz="0 0 1" />
        <parent link="Lfinger_respondable_respondable_respondable_respondable_respondable_respondable_respondable" />
        <child link="LfingerTip_respondable_respondable_respondable_respondable_respondable_respondable_respondable" />
        <origin xyz="0.011178 0.055909 0.000005" rpy="3.141589 3.141598 -2.617995" />
    </joint>
    <link name="LfingerTip_respondable_respondable_respondable_respondable_respondable_respondable_respondable">
        <inertial>
            <origin rpy="1.570785 3.141585 2.618120" xyz="0.011428 0.016336 -0.000007" />
            <inertia ixx="3.0898985486283e-05" izz="1.0653864139997e-05" ixz="9.3519319562104e-06" ixy="-1.5997909493343e-09" iyz="3.0402050629765e-09" iyy="3.3094096464058e-05" />
            <mass value="0.10000000149012" />
        </inertial>
        <collision name="LfingerTip_respondable_respondable_respondable_respondable_respondable_respondable_respondable">
            <origin xyz="0.011081 0.025434 -0.000005" rpy="1.570785 3.141585 2.618120" />
            <geometry>
                <box size="0.009509 0.025404 0.036832" />
            </geometry>
        </collision>
        <collision name="LfingerTip_respondable_respondable_respondable_respondable_respondable_respondable_respondable">
            <origin xyz="0.014107 0.016941 -0.000006" rpy="-1.570928 3.141602 -0.523473" />
            <geometry>
                <box size="0.008509 0.014223 0.025144" />
            </geometry>
        </collision>
        <collision name="LfingerTip_respondable_respondable_respondable_respondable_respondable_respondable_respondable">
            <origin xyz="0.009799 -0.010306 -0.000009" rpy="2.713559 1.571040 -1.475103" />
            <geometry>
                <box size="0.011078 0.012672 0.022135" />
            </geometry>
        </collision>
        <visual name="LfingerTip_respondable_respondable_respondable_respondable_respondable_respondable_visual">
            <origin xyz="0.015281 0.010303 -0.000006" rpy="1.570916 3.141585 2.618145" />
            <geometry>
                <mesh filename="models/urdf/ur5_static_industrial_16505/ur5_static_industrial_16505_LfingerTip_respondable_respondable_respondable_respondable_respondable_respondable_visual_vis_1.dae" />
            </geometry>
            <material name="LfingerTip_respondable_respondable_respondable_respondable_respondable_respondable_visual_material">
                <color rgba="0.282317 0.282389 0.282389 1.0" />
            </material>
        </visual>
        <visual name="LfingerTip_respondable_respondable_respondable_respondable_respondable_respondable_visual">
            <origin xyz="0.015281 0.010303 -0.000006" rpy="1.570916 3.141585 2.618145" />
            <geometry>
                <mesh filename="models/urdf/ur5_static_industrial_16505/ur5_static_industrial_16505_LfingerTip_respondable_respondable_respondable_respondable_respondable_respondable_visual_vis_2.dae" />
            </geometry>
            <material name="LfingerTip_respondable_respondable_respondable_respondable_respondable_respondable_visual_material">
                <color rgba="0.305882 0.305882 0.305882 1.0" />
            </material>
        </visual>
    </link>
    <joint name="LactiveJoint" type="continuous">
        <axis xyz="0 0 1" />
        <parent link="robotiq_base_respondable_respondable_respondable_respondable_respondable_respondable_respondable" />
        <child link="LauxLink1Visible_visual_visual_visual_visual_visual_visual_visual" />
        <origin xyz="0.067942 -0.004681 0.042599" rpy="-1.570793 -1.570796 0.000000" />
    </joint>
    <link name="LauxLink1Visible_visual_visual_visual_visual_visual_visual_visual">
        <visual name="LauxLink1Visible_visual_visual_visual_visual_visual_visual_visual">
            <origin xyz="0.014963 -0.001623 0.000001" rpy="-1.570931 3.141677 -1.674482" />
            <geometry>
                <mesh filename="models/urdf/ur5_static_industrial_16505/ur5_static_industrial_16505_LauxLink1Visible_visual_visual_visual_visual_visual_visual_visual_vis_1.dae" />
            </geometry>
            <material name="LauxLink1Visible_visual_visual_visual_visual_visual_visual_visual_material">
                <color rgba="0.282317 0.282389 0.282389 1.0" />
            </material>
        </visual>
        <visual name="LauxLink1Visible_visual_visual_visual_visual_visual_visual_visual">
            <origin xyz="0.014963 -0.001623 0.000001" rpy="-1.570931 3.141677 -1.674482" />
            <geometry>
                <mesh filename="models/urdf/ur5_static_industrial_16505/ur5_static_industrial_16505_LauxLink1Visible_visual_visual_visual_visual_visual_visual_visual_vis_2.dae" />
            </geometry>
            <material name="LauxLink1Visible_visual_visual_visual_visual_visual_visual_visual_material">
                <color rgba="0.837524 0.970755 1.000000 1.0" />
            </material>
        </visual>
    </link>
    <joint name="LauxJoint2" type="continuous">
        <axis xyz="0 0 1" />
        <parent link="LauxLink1Visible_visual_visual_visual_visual_visual_visual_visual" />
        <child link="LauxLink2Visible_visual_visual_visual_visual_visual_visual_visual" />
        <origin xyz="0.031465 -0.004244 0.000000" rpy="3.141592 3.141593 -3.141592" />
    </joint>
    <link name="LauxLink2Visible_visual_visual_visual_visual_visual_visual_visual">
        <visual name="LauxLink2Visible_visual_visual_visual_visual_visual_visual_visual">
            <origin xyz="0.003104 0.023609 0.000000" rpy="-1.570795 3.141585 -0.130688" />
            <geometry>
                <mesh filename="models/urdf/ur5_static_industrial_16505/ur5_static_industrial_16505_LauxLink2Visible_visual_visual_visual_visual_visual_visual_visual_vis_1.dae" />
            </geometry>
            <material name="LauxLink2Visible_visual_visual_visual_visual_visual_visual_visual_material">
                <color rgba="0.282317 0.282389 0.282389 1.0" />
            </material>
        </visual>
        <visual name="LauxLink2Visible_visual_visual_visual_visual_visual_visual_visual">
            <origin xyz="0.003104 0.023609 0.000000" rpy="-1.570795 3.141585 -0.130688" />
            <geometry>
                <mesh filename="models/urdf/ur5_static_industrial_16505/ur5_static_industrial_16505_LauxLink2Visible_visual_visual_visual_visual_visual_visual_visual_vis_2.dae" />
            </geometry>
            <material name="LauxLink2Visible_visual_visual_visual_visual_visual_visual_visual_material">
                <color rgba="0.837524 0.970755 1.000000 1.0" />
            </material>
        </visual>
    </link>
</robot>
